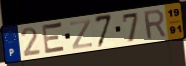2: (20, 26, 42, 58)
7: (94, 13, 114, 50), (121, 12, 141, 43)
E: (41, 21, 67, 56)
R: (142, 8, 168, 41)
Z: (69, 18, 94, 51)
